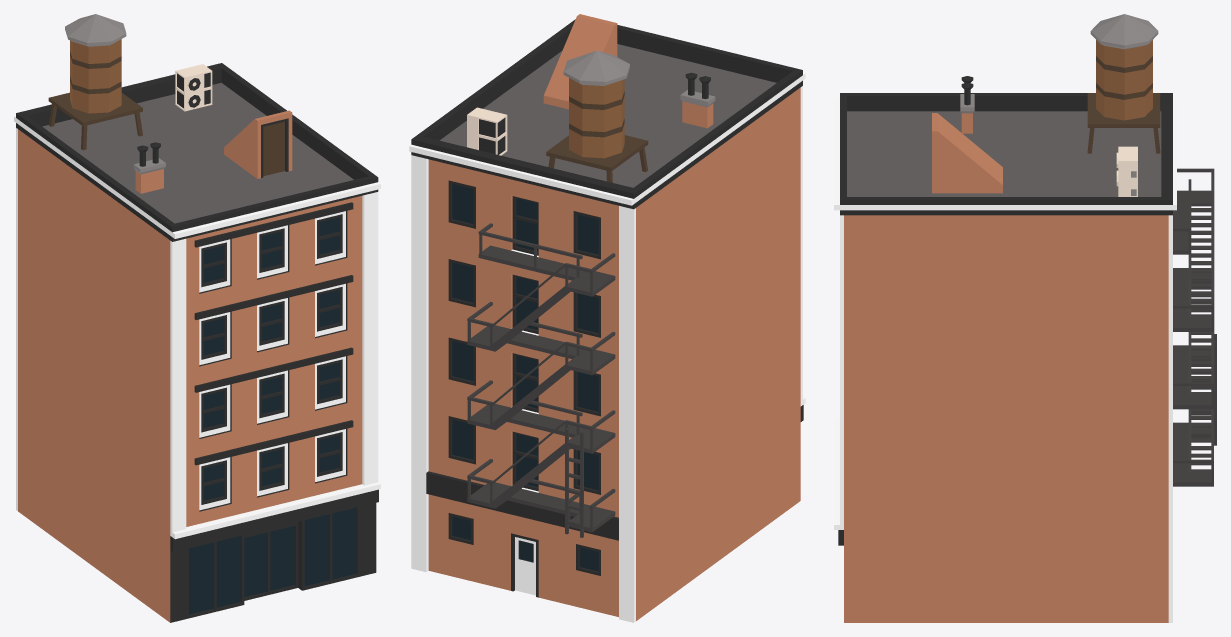
The model's file is building-block-4floor-short.glb.
3 renders of one model, left to right at view 1: azimuth 30°, elevation 25°; view 2: azimuth 150°, elevation 25°; view 3: azimuth 270°, elevation 25°, orthographic. The views are drawn at different scales.
Parts seen in each view (by area): view 1: building-block-4floor-short; view 2: building-block-4floor-short; view 3: building-block-4floor-short.
Part boxes in pixels (bbox=[...]): building-block-4floor-short: bbox=[14, 14, 380, 622]; building-block-4floor-short: bbox=[409, 14, 805, 622]; building-block-4floor-short: bbox=[834, 14, 1216, 622].
Bounding box in the file's own units: 8.9 × 20.61 × 13.45.
Materials: 1 (1 with a texture image).
